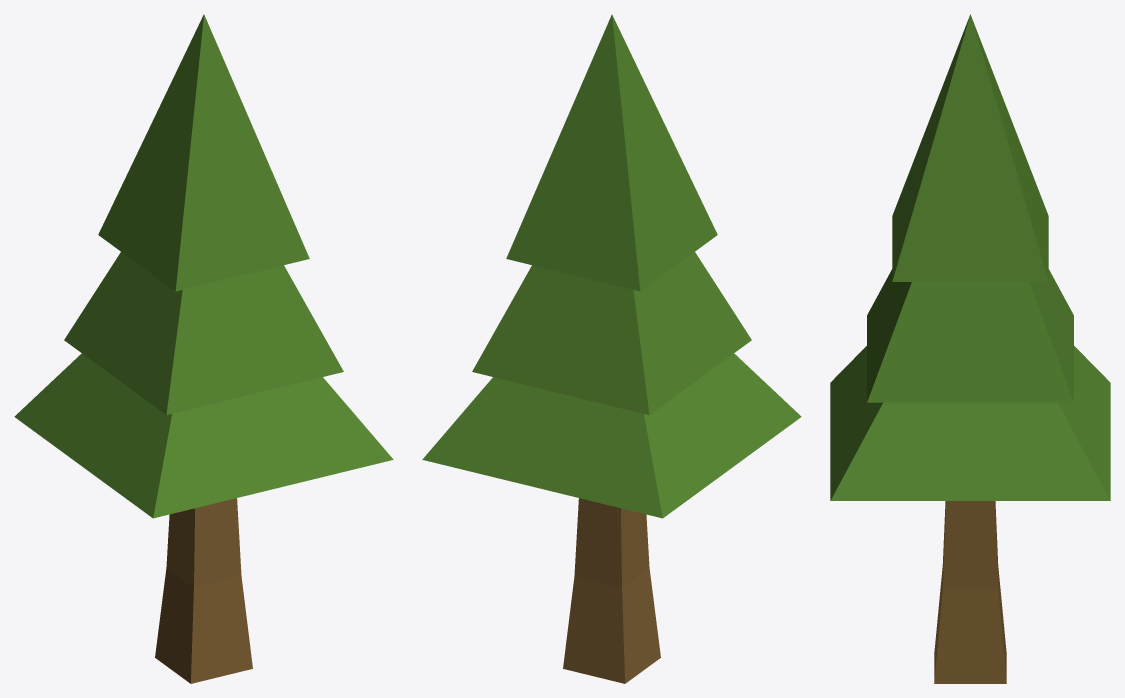
The model's file is pine_1.glb.
3 renders of one model, left to right at view 1: azimuth 30°, elevation 25°; view 2: azimuth 150°, elevation 25°; view 3: azimuth 270°, elevation 25°, orthographic.
Visible parts, largest first — view 1: Cube; view 2: Cube; view 3: Cube.
Boxes of the visible parts, x1,y1,x2,y2 form: Cube: (14, 14, 393, 683); Cube: (422, 14, 801, 683); Cube: (830, 14, 1110, 683).
Bounding box in the file's own units: 3.36 × 8.66 × 3.36.
